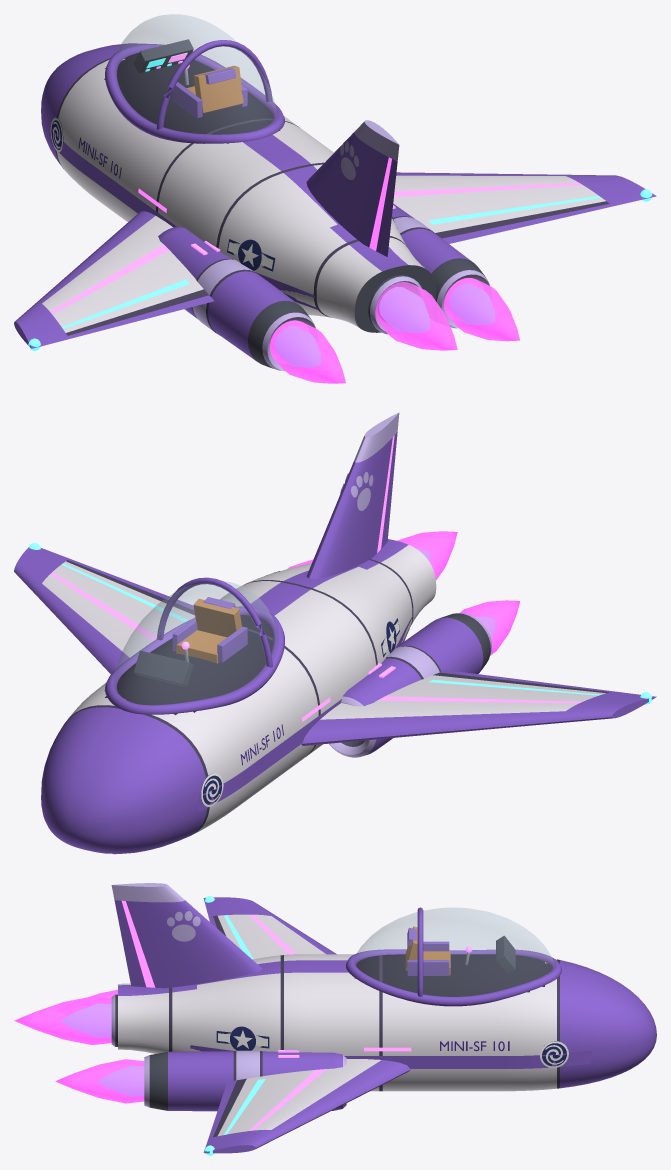
File: ship2.glb
The picture shows the model from 3 angles, top to bottom: view 1: azimuth 30°, elevation 25°; view 2: azimuth 150°, elevation 25°; view 3: azimuth 270°, elevation 25°; orthographic projection. The views are drawn at different scales.
Parts seen in each view (by area): view 1: Fuselage, Wings, Canopy, Engines, EngineFlames, TailFin, CanopyFrame, Decals, Cockpit; view 2: Fuselage, Wings, Canopy, TailFin, Engines, CanopyFrame, Cockpit, Decals, EngineFlames; view 3: Fuselage, Wings, Canopy, TailFin, Engines, EngineFlames, Decals, CanopyFrame, Cockpit.
Part boxes in pixels (left/top/right/bottom): Fuselage: left=41, top=43, right=436, bottom=332; Wings: left=14, top=172, right=656, bottom=348; Canopy: left=113, top=14, right=276, bottom=133; Engines: left=158, top=204, right=489, bottom=370; EngineFlames: left=270, top=278, right=520, bottom=383; TailFin: left=306, top=120, right=399, bottom=256; CanopyFrame: left=105, top=40, right=284, bottom=143; Decals: left=50, top=117, right=394, bottom=309; Cockpit: left=133, top=39, right=247, bottom=118; Fuselage: left=41, top=539, right=436, bottom=853; Wings: left=14, top=547, right=656, bottom=745; Canopy: left=113, top=581, right=276, bottom=704; TailFin: left=306, top=412, right=399, bottom=578; Engines: left=266, top=571, right=491, bottom=757; CanopyFrame: left=105, top=577, right=284, bottom=714; Cockpit: left=133, top=597, right=247, bottom=687; Decals: left=198, top=472, right=413, bottom=811; EngineFlames: left=287, top=531, right=520, bottom=655; Fuselage: left=118, top=954, right=656, bottom=1091; Wings: left=203, top=897, right=410, bottom=1153; Canopy: left=353, top=908, right=554, bottom=996; TailFin: left=111, top=883, right=262, bottom=988; Engines: left=111, top=994, right=346, bottom=1111; EngineFlames: left=14, top=989, right=144, bottom=1103; Decals: left=167, top=911, right=591, bottom=1068; CanopyFrame: left=346, top=907, right=561, bottom=1006; Cockpit: left=405, top=926, right=515, bottom=975.
Size of the model in its own units: 4.59 by 1.64 by 4.89.
